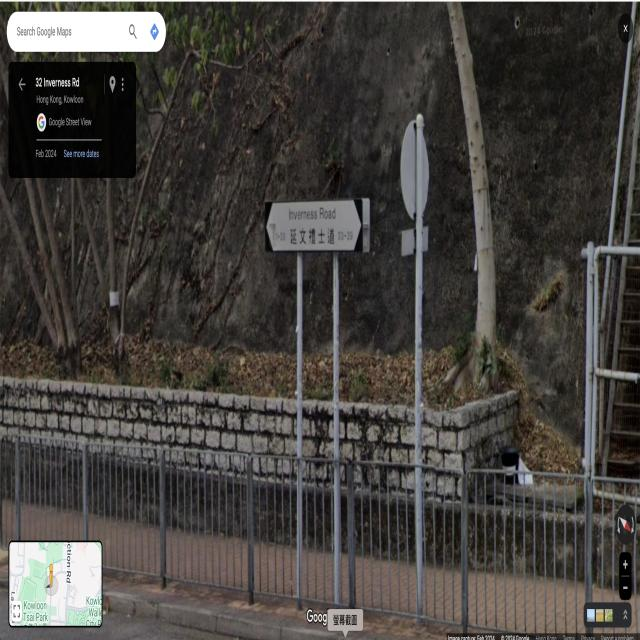Street-Direction-Sign: (265, 198, 363, 253)
